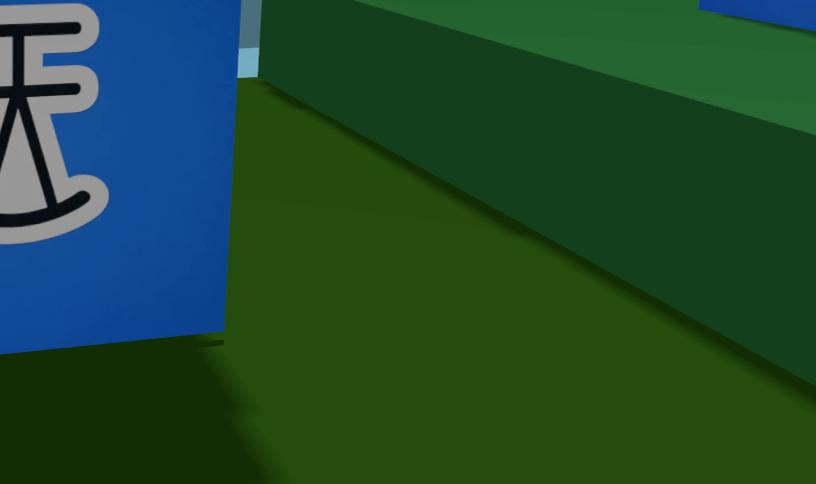KFS_REAL: (0, 0, 241, 353), (0, 4, 105, 243), (699, 0, 815, 30)
